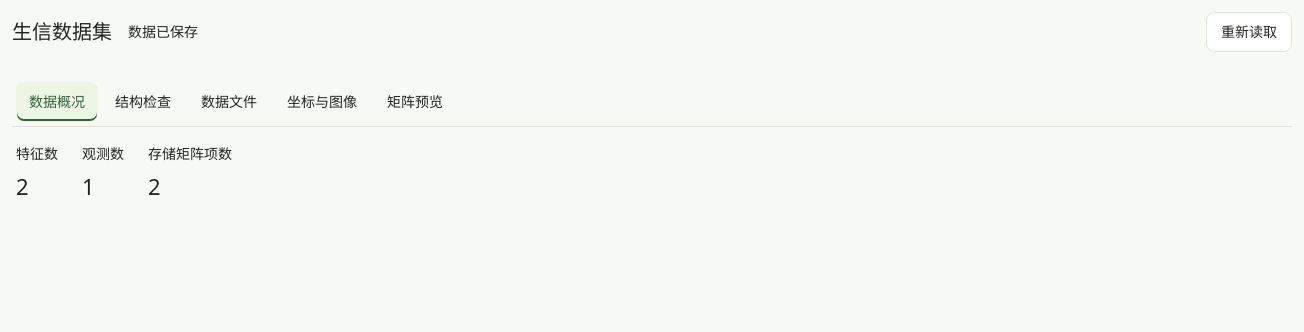
Test: shows feature IDs and symbols while preserving separate columns for duplicate symbols
Click the button "矩阵预览": (415, 102) [374, 82, 456, 122]
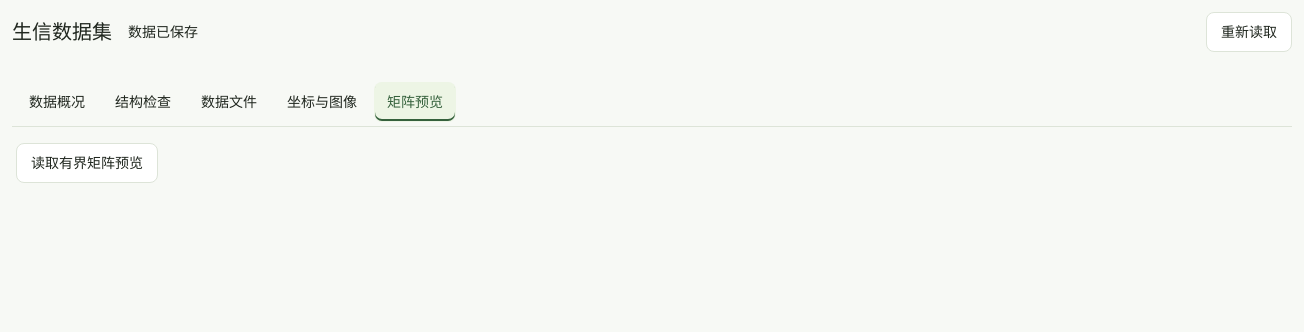
Click the button "读取有界矩阵预览": (87, 163) [16, 143, 158, 183]
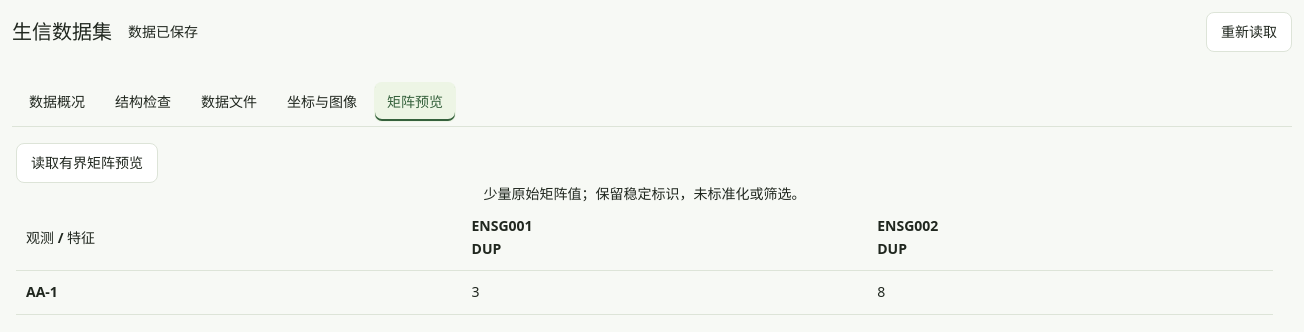
Now the column heading "ENSG001DUP" is shown, box [462, 205, 867, 271]
Now the column heading "ENSG002DUP" is shown, box [867, 205, 1273, 271]
Now the text "DUP" is shown 2 times, box [472, 239, 501, 258]; [877, 239, 907, 258]
